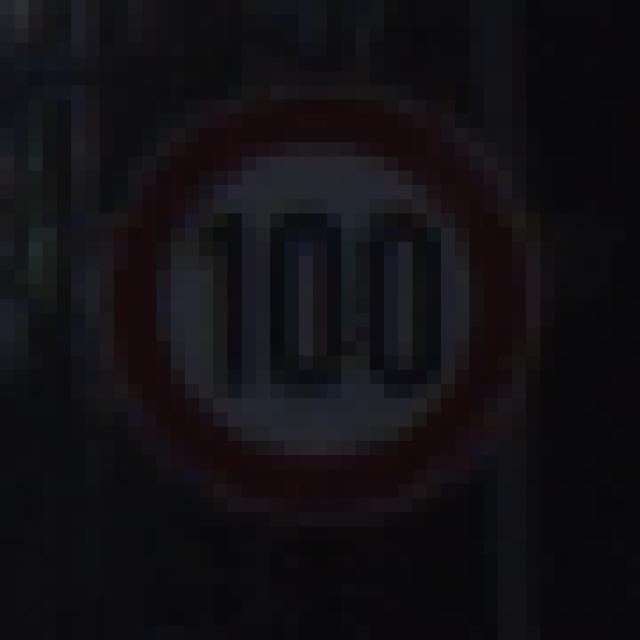Ograniczenie predkosci do 100: (107, 91, 530, 516)
